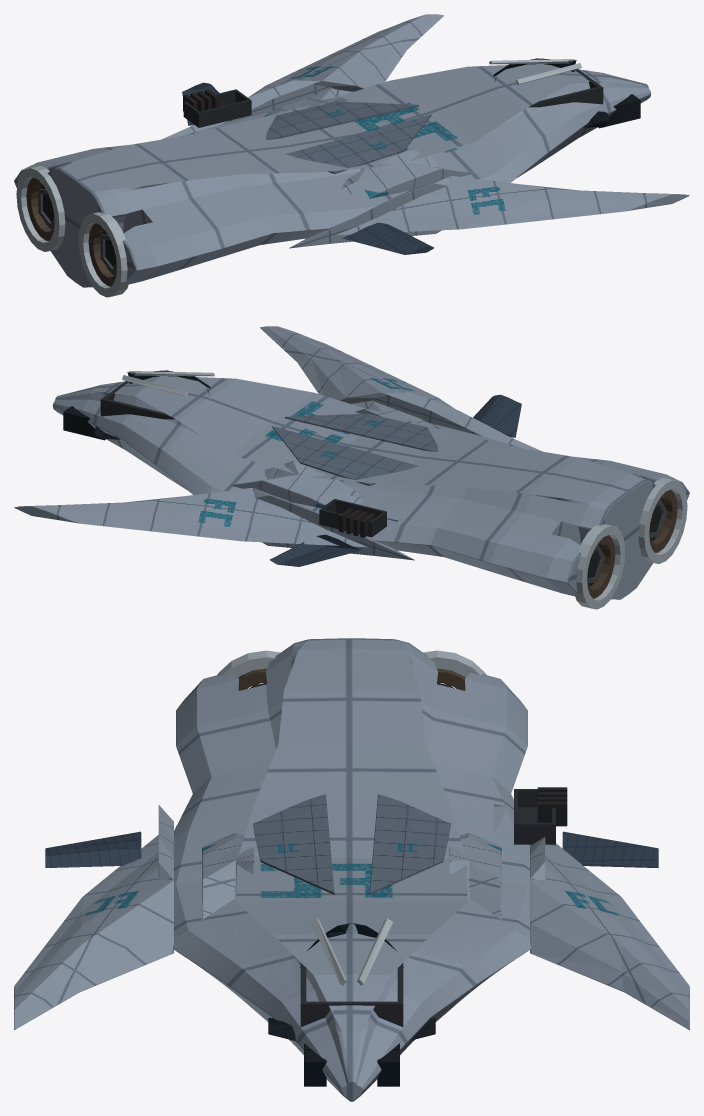
The model's file is hornet_production_v1_lod1.glb.
3 views of the same model, one above another, from view 1: azimuth 30°, elevation 25°; view 2: azimuth 150°, elevation 25°; view 3: azimuth 270°, elevation 25° (orthographic). The views are drawn at different scales.
Visible parts, largest first — view 1: LOD1_Hull, Wing_Port.001, Wing_Stbd.001, SaddlePanel_Port.001, Wing_Port_RootFairing.001, SaddlePanel_Stbd.001, DriveFlange_Port.001, DriveFlange_Stbd.001, Wing_Port_Flap.001, DriveCeramic_Port.001, DriveCeramic_Stbd.001, Wing_Stbd_RootFairing.001 (+3 smaller); view 2: LOD1_Hull, Wing_Stbd.001, Wing_Port.001, SaddlePanel_Stbd.001, Wing_Stbd_RootFairing.001, SaddlePanel_Port.001, DriveFlange_Stbd.001, DriveFlange_Port.001, Wing_Stbd_Flap.001, Wing_Port_Flap.001, DriveCeramic_Stbd.001, DriveCeramic_Port.001 (+3 smaller); view 3: LOD1_Hull, Wing_Port.001, Wing_Stbd.001, SaddlePanel_Port.001, SaddlePanel_Stbd.001, Wing_Stbd_RootFairing.001, Wing_Port_RootFairing.001, Wing_Port_Flap.001, Wing_Stbd_Flap.001, CanopyTub_C187_Fore.001, DriveFlange_Port.001, DriveFlange_Stbd.001 (+3 smaller).
Part boxes in pixels (x1,y1,x2,y2): LOD1_Hull: (14,64,651,287); Wing_Port.001: (289,176,689,248); Wing_Stbd.001: (161,14,443,139); SaddlePanel_Port.001: (286,114,431,173); Wing_Port_RootFairing.001: (341,149,473,199); SaddlePanel_Stbd.001: (266,101,418,139); DriveFlange_Port.001: (78,212,129,297); DriveFlange_Stbd.001: (16,165,65,251); Wing_Port_Flap.001: (342,222,433,254); DriveCeramic_Port.001: (88,223,116,286); DriveCeramic_Stbd.001: (26,177,54,240); Wing_Stbd_RootFairing.001: (263,88,352,116); LOD1_Hull: (52,376,689,599); Wing_Stbd.001: (14,488,414,560); Wing_Port.001: (260,326,542,451); SaddlePanel_Stbd.001: (272,426,417,485); Wing_Stbd_RootFairing.001: (230,461,362,508); SaddlePanel_Port.001: (285,413,437,451); DriveFlange_Stbd.001: (574,524,625,609); DriveFlange_Port.001: (638,477,687,563); Wing_Stbd_Flap.001: (270,534,361,566); Wing_Port_Flap.001: (473,394,521,437); DriveCeramic_Stbd.001: (587,535,615,598); DriveCeramic_Port.001: (649,489,677,552); LOD1_Hull: (173,638,530,1101); Wing_Port.001: (14,805,173,1029); Wing_Stbd.001: (530,837,689,1029); SaddlePanel_Port.001: (253,794,334,894); SaddlePanel_Stbd.001: (369,794,450,894); Wing_Stbd_RootFairing.001: (449,832,501,919); Wing_Port_RootFairing.001: (202,832,254,919); Wing_Port_Flap.001: (45,831,141,867); Wing_Stbd_Flap.001: (562,831,658,867); CanopyTub_C187_Fore.001: (300,1001,403,1026); DriveFlange_Port.001: (217,650,280,677); DriveFlange_Stbd.001: (423,650,486,677).
Size of what is drawn, in the model's own units: 10.53 by 1.87 by 7.76.
Materials: 11 (7 with a texture image).
